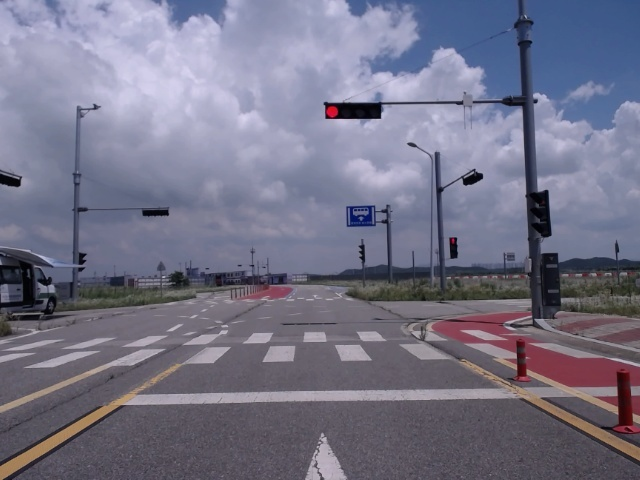red_4: (325, 105, 381, 119)
